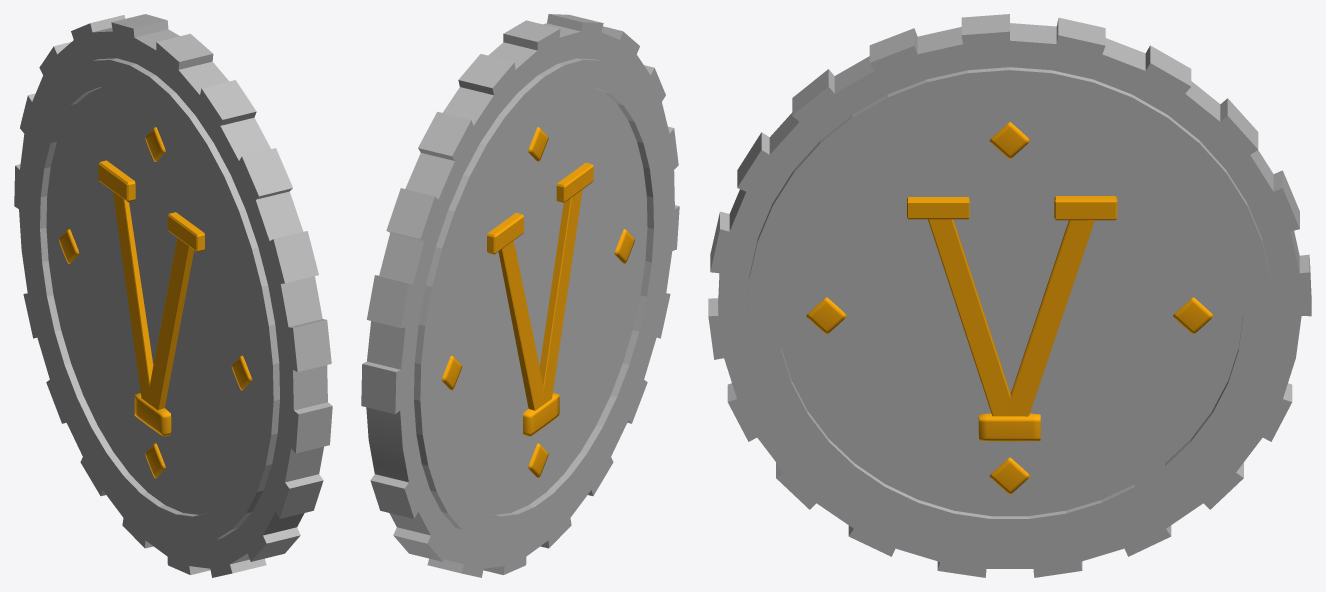
The model's file is RomanCoin_2.fbx.
3 views of the same model, side by side, from view 1: azimuth 30°, elevation 25°; view 2: azimuth 150°, elevation 25°; view 3: azimuth 270°, elevation 25° (orthographic). The views are drawn at different scales.
Parts seen in each view (by area): view 1: pCylinder5, pCube8, pCube10, pCube11, pCube9, pCube7, pCube14, pCube12, pCube13, pCube15; view 2: pCylinder5, pCube8, pCube10, pCube11, pCube9, pCube7, pCube15, pCube14, pCube12, pCube13; view 3: pCylinder5, pCube10, pCube8, pCube9, pCube11, pCube7, pCube13, pCube15, pCube12, pCube14.
Part boxes in pixels (box(x1,y1,x2,y2)): pCylinder5: box(14, 14, 332, 577); pCube8: box(147, 238, 194, 410); pCube10: box(113, 191, 153, 405); pCube11: box(98, 160, 135, 202); pCube9: box(134, 393, 171, 436); pCube7: box(167, 212, 204, 252); pCube14: box(231, 355, 252, 390); pCube12: box(145, 127, 165, 161); pCube13: box(145, 443, 165, 478); pCube15: box(59, 229, 79, 263); pCylinder5: box(361, 14, 679, 577); pCube8: box(539, 189, 582, 406); pCube10: box(498, 240, 546, 410); pCube11: box(487, 212, 523, 254); pCube9: box(523, 392, 559, 436); pCube7: box(556, 162, 593, 202); pCube15: box(441, 355, 462, 390); pCube14: box(614, 229, 634, 263); pCube12: box(528, 127, 548, 161); pCube13: box(528, 443, 548, 478); pCylinder5: box(708, 14, 1311, 577); pCube10: box(1006, 220, 1094, 416); pCube8: box(928, 219, 1010, 416); pCube9: box(978, 413, 1040, 441); pCube11: box(1054, 196, 1117, 220); pCube7: box(907, 197, 969, 219); pCube13: box(989, 457, 1030, 494); pCube15: box(1173, 297, 1213, 334); pCube12: box(989, 122, 1030, 158); pCube14: box(806, 297, 846, 334).
Size of the model in its own units: 0.3021 by 2.95 by 2.95.
